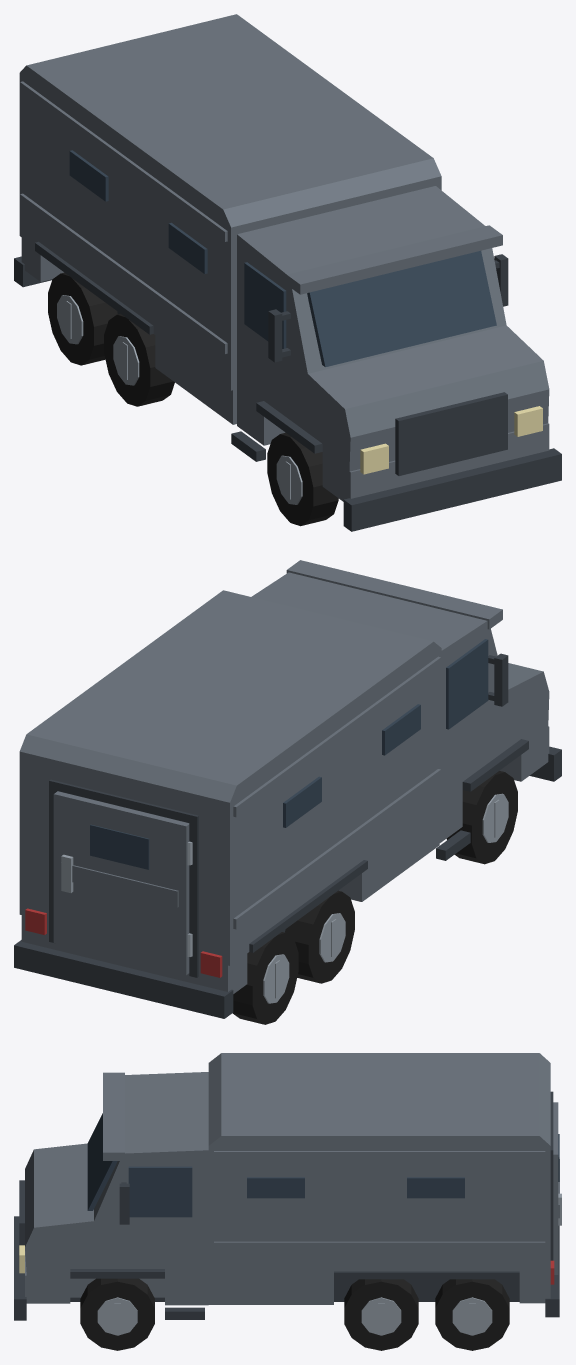
Rendered from caminhao_blindado.glb.
3 renders of one model, top to bottom at view 1: azimuth 30°, elevation 25°; view 2: azimuth 150°, elevation 25°; view 3: azimuth 270°, elevation 25°, orthographic. The views are drawn at different scales.
Parts seen in each view (by area): view 1: carroceria, cabine, janela, roda_1, roda_5, roda_3; view 2: carroceria, cabine, porta_traseira, janela, roda_3, roda_5, roda_1; view 3: carroceria, cabine, janela, roda_2, roda_6, roda_4, porta_traseira.
Part boxes in pixels (left/top/right/bottom): carroceria: left=14, top=14, right=441, bottom=424; cabine: left=231, top=186, right=561, bottom=531; janela: left=69, top=150, right=496, bottom=367; roda_1: left=267, top=432, right=338, bottom=526; roda_5: left=48, top=272, right=117, bottom=365; roda_3: left=104, top=313, right=174, bottom=406; carroceria: left=14, top=590, right=441, bottom=1018; cabine: left=251, top=560, right=561, bottom=860; porta_traseira: left=53, top=791, right=192, bottom=975; janela: left=283, top=639, right=488, bottom=827; roda_3: left=285, top=890, right=354, bottom=983; roda_5: left=232, top=932, right=298, bottom=1024; roda_1: left=446, top=771, right=517, bottom=864; carroceria: left=70, top=1053, right=559, bottom=1317; cabine: left=14, top=1072, right=208, bottom=1320; janela: left=87, top=1113, right=464, bottom=1217; roda_2: left=80, top=1278, right=154, bottom=1350; roda_6: left=435, top=1279, right=509, bottom=1350; roda_4: left=344, top=1279, right=418, bottom=1350; porta_traseira: left=553, top=1102, right=561, bottom=1274.
Bounding box in the file's own units: 2.4 × 2.62 × 6.02.
